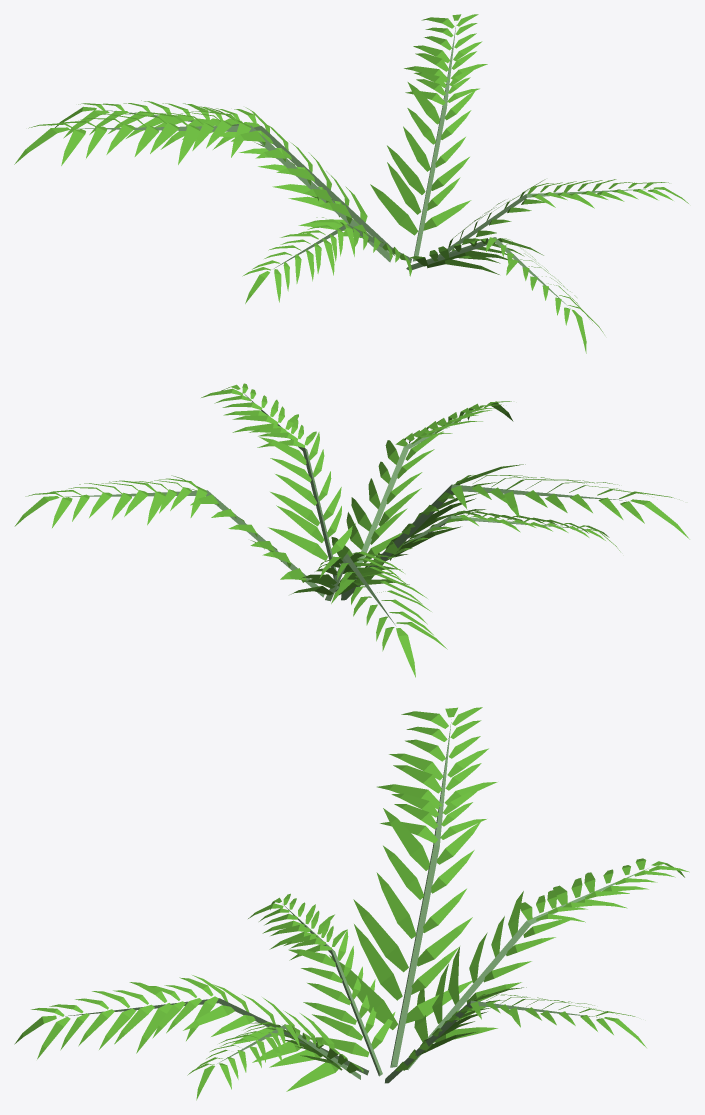
The model's file is fern.glb.
3 views of the same model, one above another, from view 1: azimuth 30°, elevation 25°; view 2: azimuth 150°, elevation 25°; view 3: azimuth 270°, elevation 25° (orthographic). The views are drawn at different scales.
Parts seen in each view (by area): view 1: fern.001, fern.002; view 2: fern.001, fern.002; view 3: fern.001, fern.002.
Boxes of the visible parts, x1,y1,x2,y2 form: fern.001: (14, 14, 688, 353); fern.002: (76, 25, 650, 308); fern.001: (14, 383, 689, 677); fern.002: (65, 392, 625, 625); fern.001: (14, 707, 689, 1100); fern.002: (62, 722, 648, 1083).
Bounding box in the file's own units: 2.13 × 0.6999 × 2.1.
